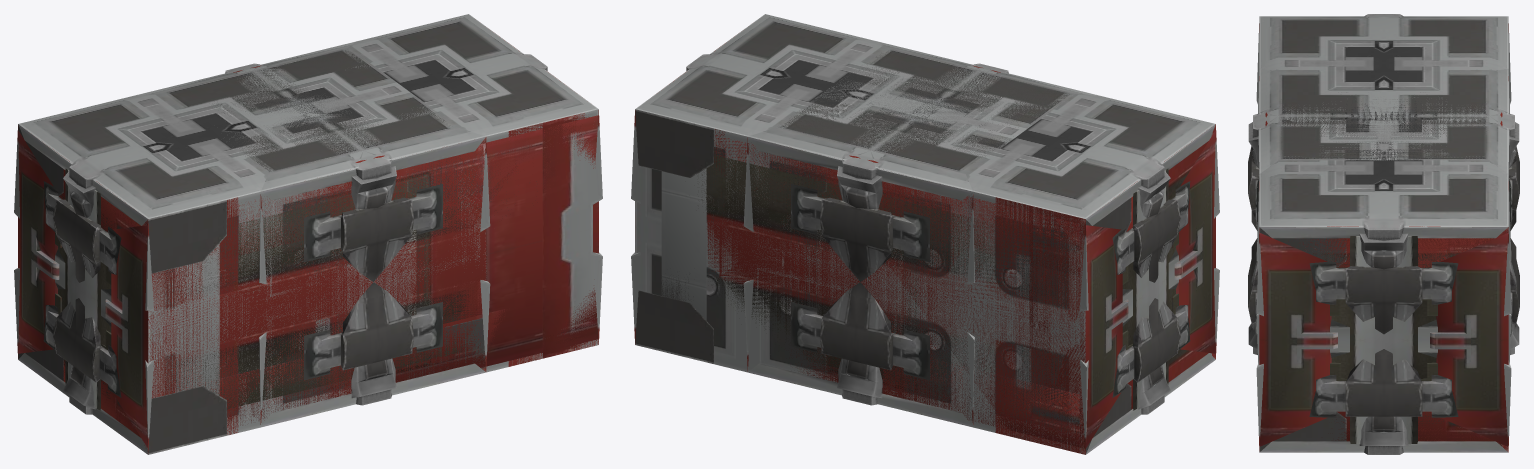
The model's file is Part - Kit cubes and blocks-243v29vR.glb.
3 views of the same model, side by side, from view 1: azimuth 30°, elevation 25°; view 2: azimuth 150°, elevation 25°; view 3: azimuth 270°, elevation 25° (orthographic). The views are drawn at different scales.
Parts seen in each view (by area): view 1: block8, block7, box8, block3, block5, block1, block6, block2, block4, box2, box5, box6 (+2 smaller); view 2: block8, box8, block3, block7, block2, block1, block6, block5, block4, box5, box1, box2 (+1 smaller); view 3: block8, block7, box8, block5, block1, block2, block6, box5.
Boxes of the visible parts, left/top/right/bottom form: block8: left=18, top=14, right=598, bottom=454; block7: left=18, top=115, right=598, bottom=447; box8: left=132, top=41, right=486, bottom=427; block3: left=151, top=167, right=536, bottom=409; block5: left=14, top=110, right=602, bottom=453; block1: left=59, top=65, right=541, bottom=437; block6: left=18, top=124, right=226, bottom=454; block2: left=53, top=36, right=598, bottom=451; block4: left=174, top=244, right=219, bottom=395; box2: left=263, top=137, right=486, bottom=408; box5: left=259, top=137, right=490, bottom=424; box6: left=407, top=138, right=485, bottom=378; block8: left=635, top=14, right=1215, bottom=454; box8: left=748, top=41, right=1101, bottom=427; block3: left=701, top=155, right=1082, bottom=393; block7: left=715, top=130, right=1215, bottom=448; block2: left=673, top=36, right=1215, bottom=454; block1: left=715, top=65, right=1132, bottom=446; block6: left=635, top=109, right=1131, bottom=454; block5: left=631, top=110, right=1219, bottom=454; block4: left=661, top=168, right=1025, bottom=343; box5: left=743, top=137, right=974, bottom=424; box1: left=754, top=147, right=966, bottom=410; box2: left=785, top=159, right=967, bottom=407; block8: left=1259, top=14, right=1508, bottom=454; block7: left=1259, top=233, right=1508, bottom=446; box8: left=1248, top=69, right=1519, bottom=354; block5: left=1256, top=23, right=1511, bottom=451; block1: left=1265, top=112, right=1502, bottom=446; block2: left=1288, top=226, right=1508, bottom=452; block6: left=1259, top=226, right=1426, bottom=452; box5: left=1256, top=76, right=1511, bottom=363.
Size of the model in its own units: 2.09 by 1.05 by 1.09.
1 material, 1 textured.
